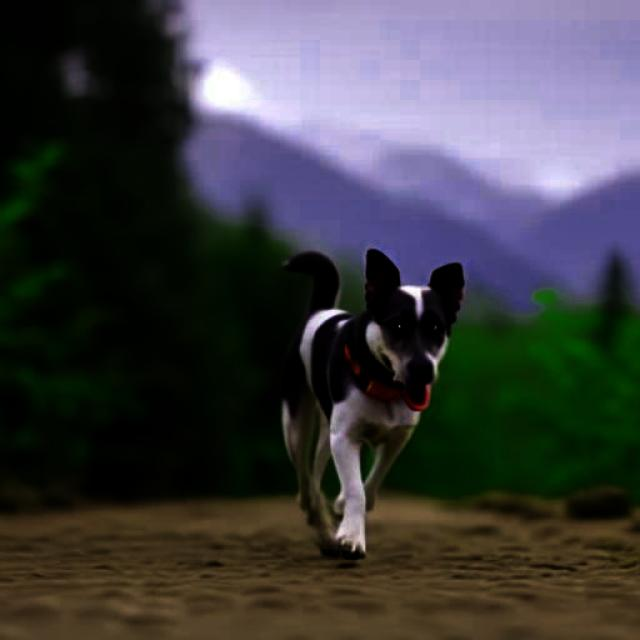Dog: (279, 248, 465, 560)
